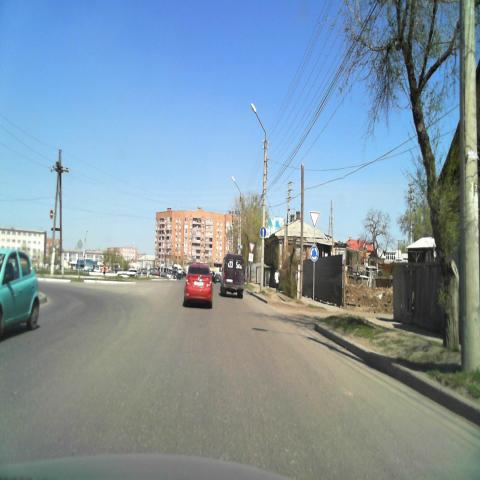4_3: (309, 245, 319, 261)
